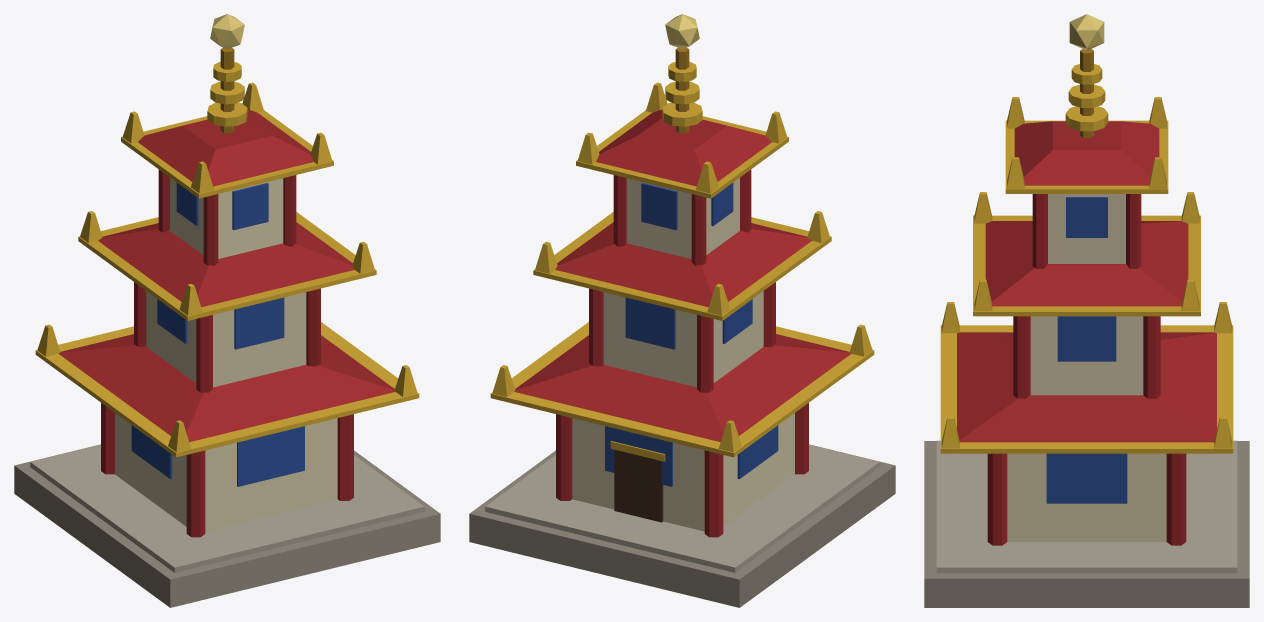
Rendered from Decor_DogeAltar_Pagoda.fbx.
3 views of the same model, side by side, from view 1: azimuth 30°, elevation 25°; view 2: azimuth 150°, elevation 25°; view 3: azimuth 270°, elevation 25° (orthographic). The views are drawn at different scales.
Visible parts, largest first — view 1: Pagoda_Body; view 2: Pagoda_Body; view 3: Pagoda_Body.
Boxes of the visible parts, box(x1,y1,x2,y2) form: Pagoda_Body: box(14, 14, 440, 607); Pagoda_Body: box(469, 14, 895, 607); Pagoda_Body: box(924, 14, 1249, 607).
Bounding box in the file's own units: 16 × 28.5 × 16.
